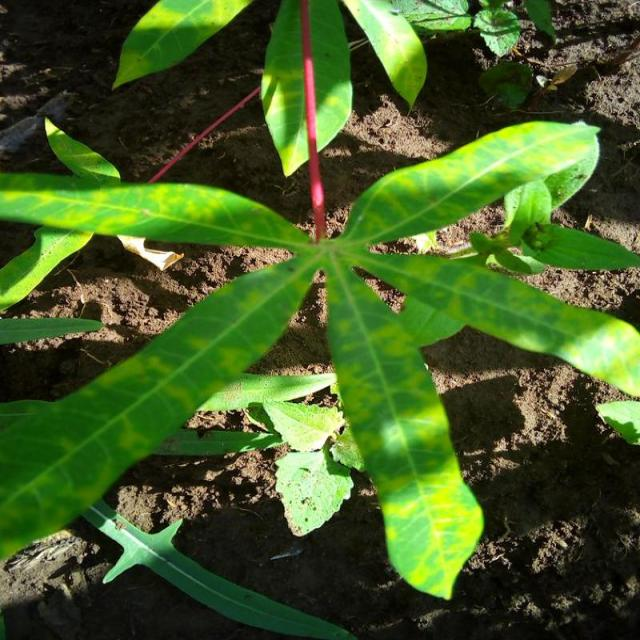cassava leaf: (1, 4, 638, 606), (0, 250, 318, 559), (322, 250, 485, 600), (341, 118, 601, 248), (259, 0, 353, 177), (110, 0, 252, 92)
